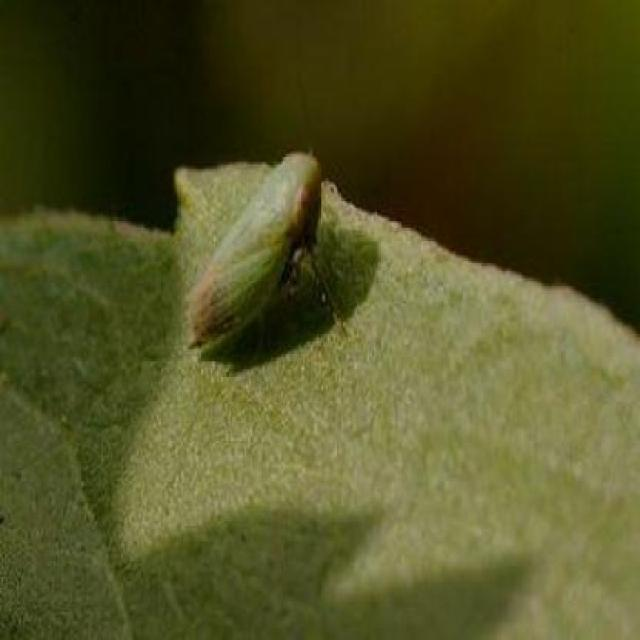green-leafhopper: (193, 151, 335, 344)
